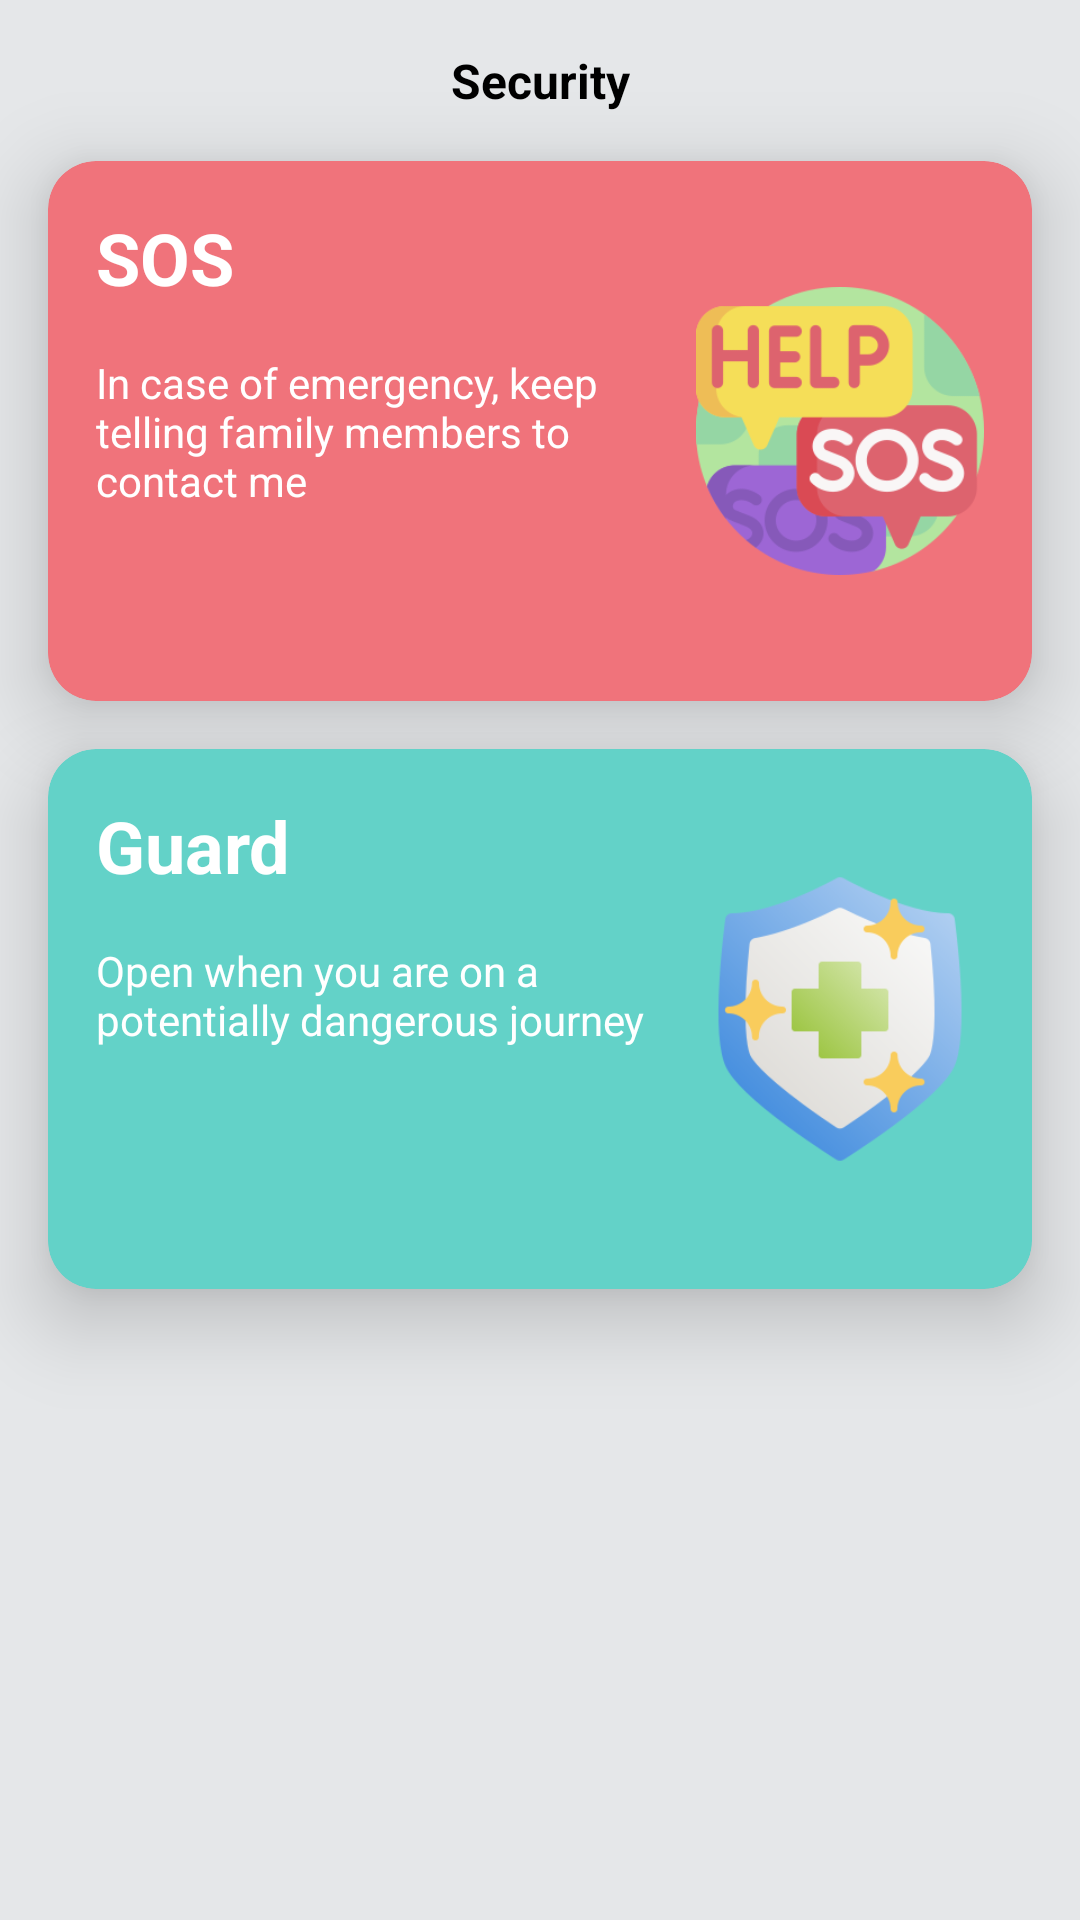

Screen size 1080 × 1920. Icon name, then its center in pixels as [x,y]:
guard: [840,1019]
